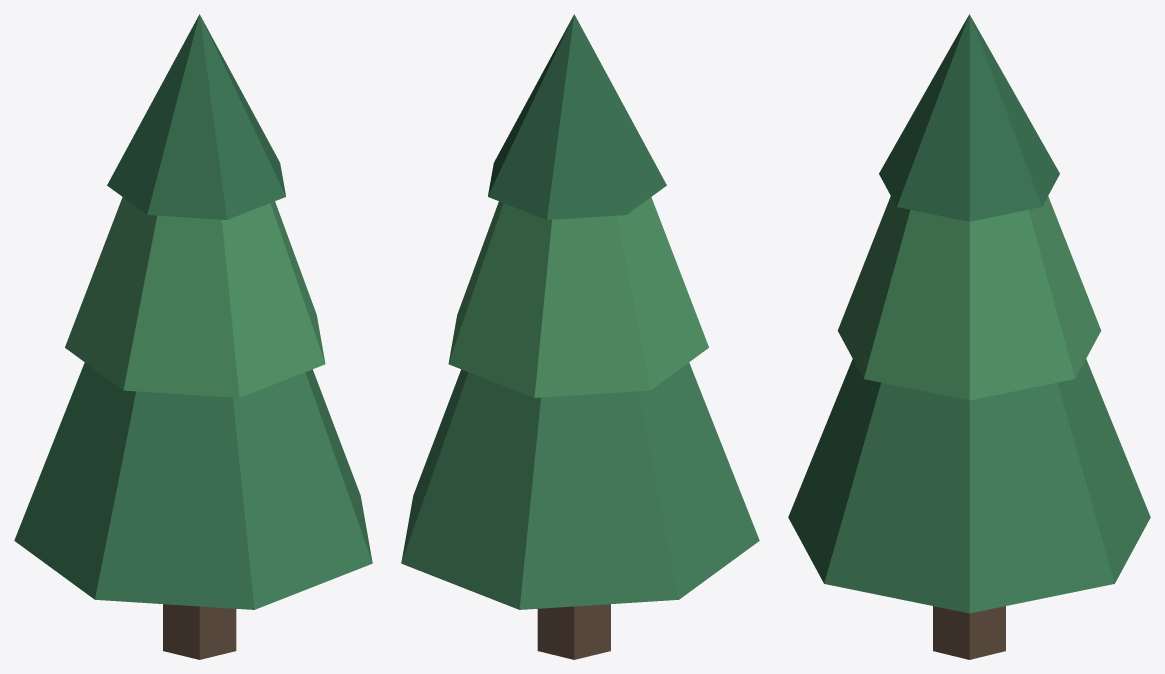
The model's file is sapin-6.glb.
3 views of the same model, side by side, from view 1: azimuth 30°, elevation 25°; view 2: azimuth 150°, elevation 25°; view 3: azimuth 270°, elevation 25° (orthographic).
Visible parts, largest first — view 1: part_00; view 2: part_00; view 3: part_00.
Boxes of the visible parts, x1,y1,x2,y2 form: part_00: [14, 14, 372, 659]; part_00: [401, 14, 759, 659]; part_00: [788, 14, 1150, 659].
Bounding box in the file's own units: 0.4183 × 0.82 × 0.429.
